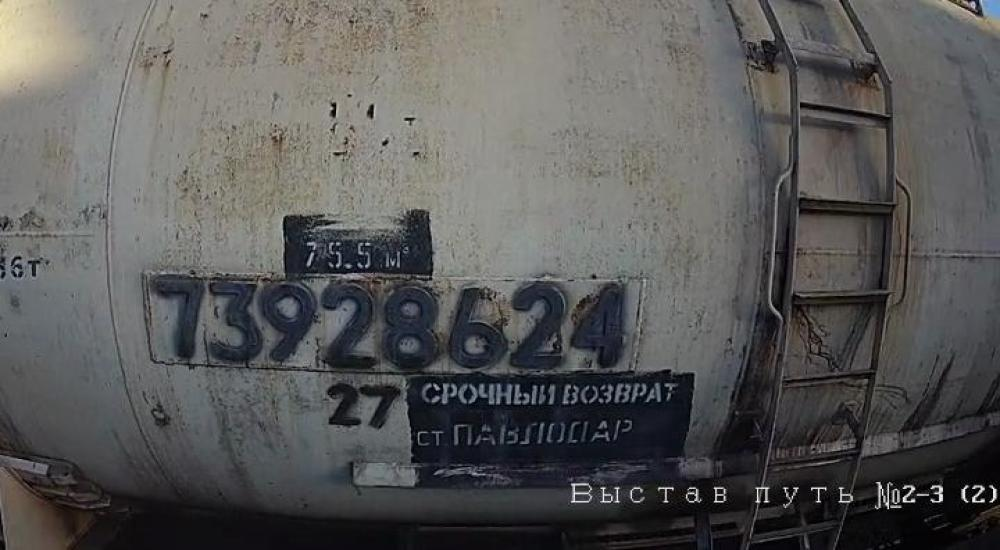Wagon-number: (146, 270, 634, 374)
